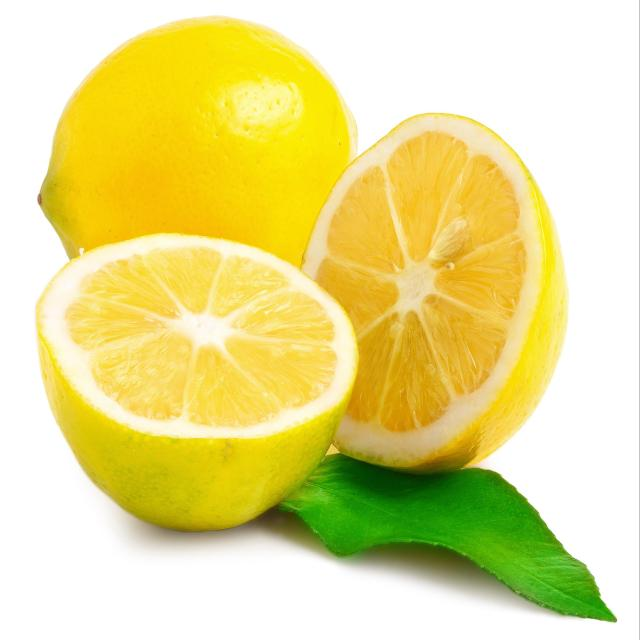lemon: (29, 223, 363, 538), (297, 108, 572, 488)
